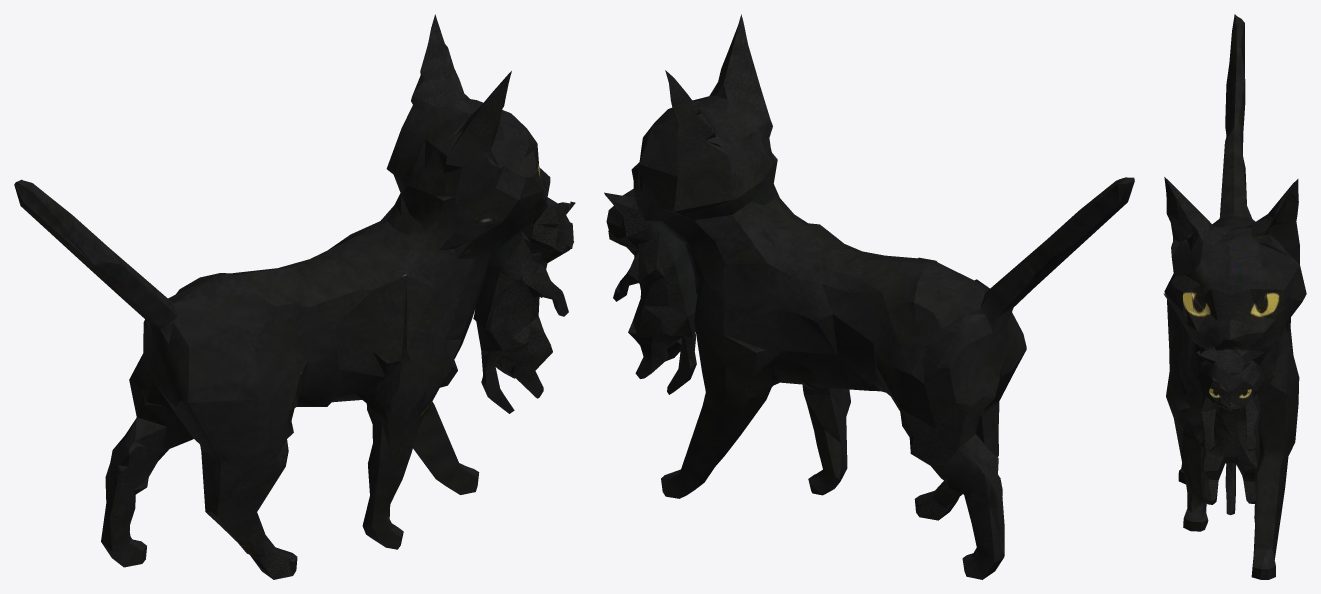
The model's file is KURONEKCAT-lo.glb.
3 renders of one model, left to right at view 1: azimuth 30°, elevation 25°; view 2: azimuth 150°, elevation 25°; view 3: azimuth 270°, elevation 25°, orthographic. The views are drawn at different scales.
Parts seen in each view (by area): view 1: output_unwrapped; view 2: output_unwrapped; view 3: output_unwrapped.
Boxes of the visible parts, x1,y1,x2,y2 form: output_unwrapped: [14, 14, 575, 579]; output_unwrapped: [604, 14, 1134, 579]; output_unwrapped: [1163, 14, 1306, 579].
Size of the model in its own units: 1.26 by 1 by 0.3295.
1 material, 1 textured.
